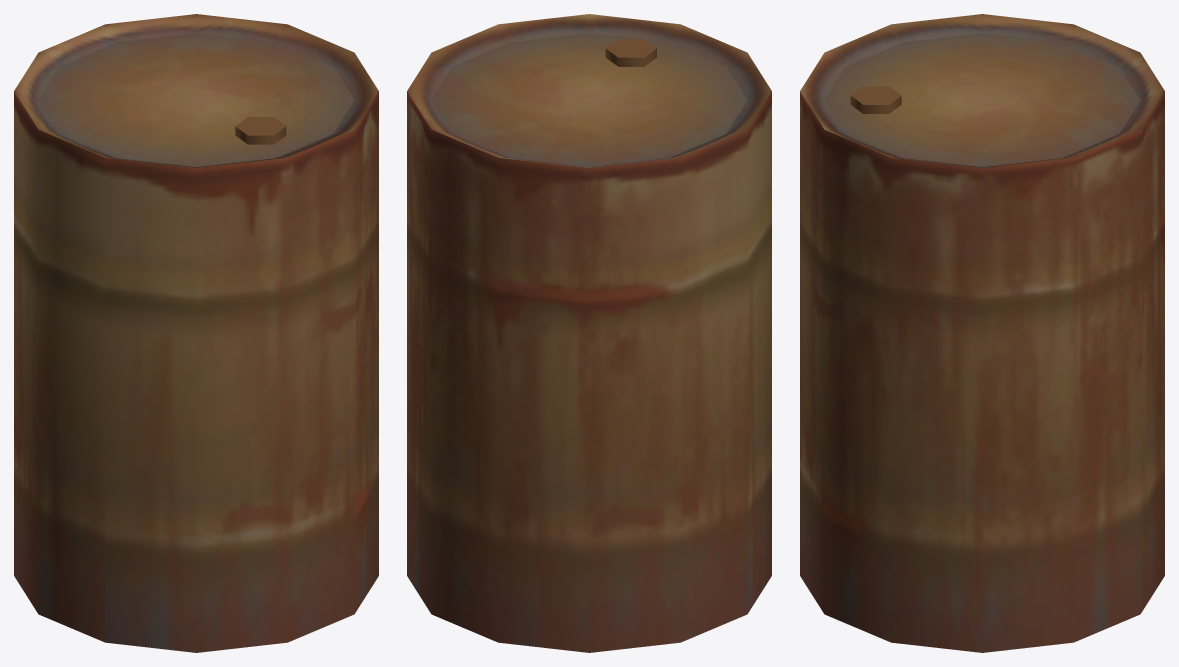
Rendered from barrel04_a.gltf.
3 renders of one model, left to right at view 1: azimuth 30°, elevation 25°; view 2: azimuth 150°, elevation 25°; view 3: azimuth 270°, elevation 25°, orthographic.
Visible parts, largest first — view 1: barrel04_A; view 2: barrel04_A; view 3: barrel04_A.
Boxes of the visible parts, box(x1,y1,x2,y2) form: barrel04_A: box(14, 14, 378, 652); barrel04_A: box(407, 14, 771, 652); barrel04_A: box(800, 14, 1164, 652).
Size of the model in its own units: 0.6895 by 1.01 by 0.6895.
Materials: 1 (1 with a texture image).
